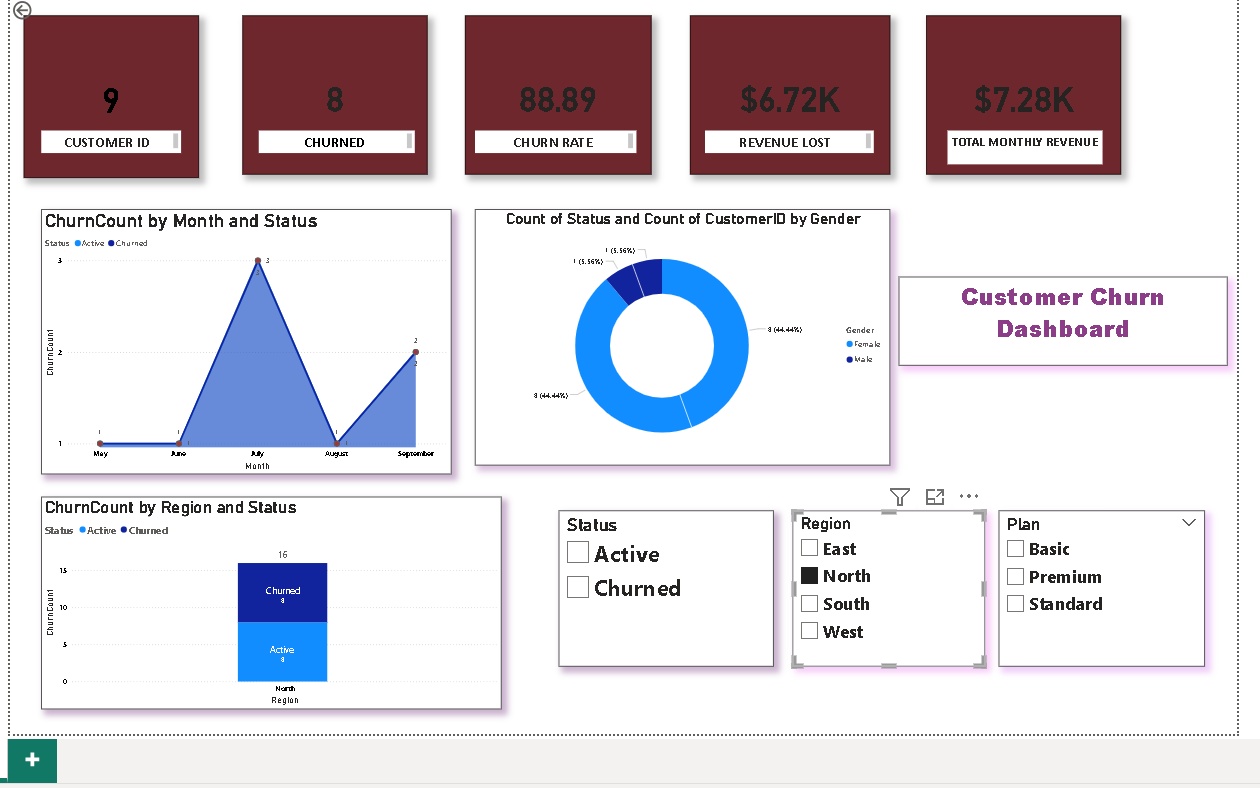

Layout of this report page (visuals, bound fields, positions):
{"tool":"powerbi","page":{"name":"Page 1","canvas":[2000,1200],"ordinal":0},"visuals":[{"type":"card","fields":{"Values":["Count(Sheet1.CustomerID)"]},"box":[22.4,28.5,285.3,264.9],"z":0},{"type":"card","fields":{"Values":["Count(Sheet1.CustomerID)"]},"box":[379.1,28.5,301.6,258.8],"z":1000},{"type":"actionButton","box":[0,0,100,40],"z":2000},{"type":"card","fields":{"Values":["Sheet1.ChurnRate"]},"box":[741.9,28.5,303.7,258.8],"z":3000},{"type":"card","fields":{"Values":["Sheet1.TotalMonthlyRevenue"]},"box":[1493.9,28.5,317.9,258.8],"z":4000},{"type":"card","fields":{"Values":["Sheet1.RevenueLost"]},"box":[1108.7,28.5,326.1,258.8],"z":5000},{"type":"lineChart","fields":{"Category":["Sheet1.ChurnDate.Variation.Date Hierarchy.Month"],"Y":["Sheet1.ChurnCount"],"Series":["Sheet1.Status"]},"box":[51,344.4,668.5,432.1],"z":6000},{"type":"columnChart","fields":{"Category":["Sheet1.Region"],"Y":["Sheet1.ChurnCount"],"Series":["Sheet1.Status"]},"box":[51,813.2,750,346.5],"z":7000},{"type":"donutChart","fields":{"Category":["Sheet1.Gender"],"Y":["CountNonNull(Sheet1.Status)","CountNonNull(Sheet1.CustomerID)"]},"box":[758.2,344.4,676.6,417.8],"z":8000},{"type":"slicer","fields":{"Values":["Sheet1.Plan"]},"box":[1612.1,835.6,336.3,254.8],"z":9000},{"type":"slicer","fields":{"Values":["Sheet1.Region"]},"box":[1275.8,835.6,313.9,254.8],"z":10000},{"type":"slicer","fields":{"Values":["Sheet1.Status"]},"box":[894.7,835.6,350.5,254.8],"z":11000},{"type":"textbox","box":[1449.1,454.5,536,144.7],"z":11001}]}

Visuals, with their boxes in screenshot pixels (x1, y1, x2, y2):
card - Count(Sheet1.CustomerID): [14,11,191,176]
card - Count(Sheet1.CustomerID): [236,11,423,172]
actionButton: [0,0,62,18]
card - Sheet1.ChurnRate: [461,11,650,172]
card - Sheet1.TotalMonthlyRevenue: [928,11,1126,172]
card - Sheet1.RevenueLost: [689,11,891,172]
lineChart - Sheet1.ChurnDate.Variation.Date Hierarchy.Month x Sheet1.ChurnCount: [32,207,447,476]
columnChart - Sheet1.Region x Sheet1.ChurnCount: [32,499,498,714]
donutChart - Sheet1.Gender x CountNonNull(Sheet1.Status): [471,207,891,467]
slicer - Sheet1.Plan: [1002,513,1211,671]
slicer - Sheet1.Region: [793,513,988,671]
slicer - Sheet1.Status: [556,513,774,671]
textbox: [900,276,1233,366]
